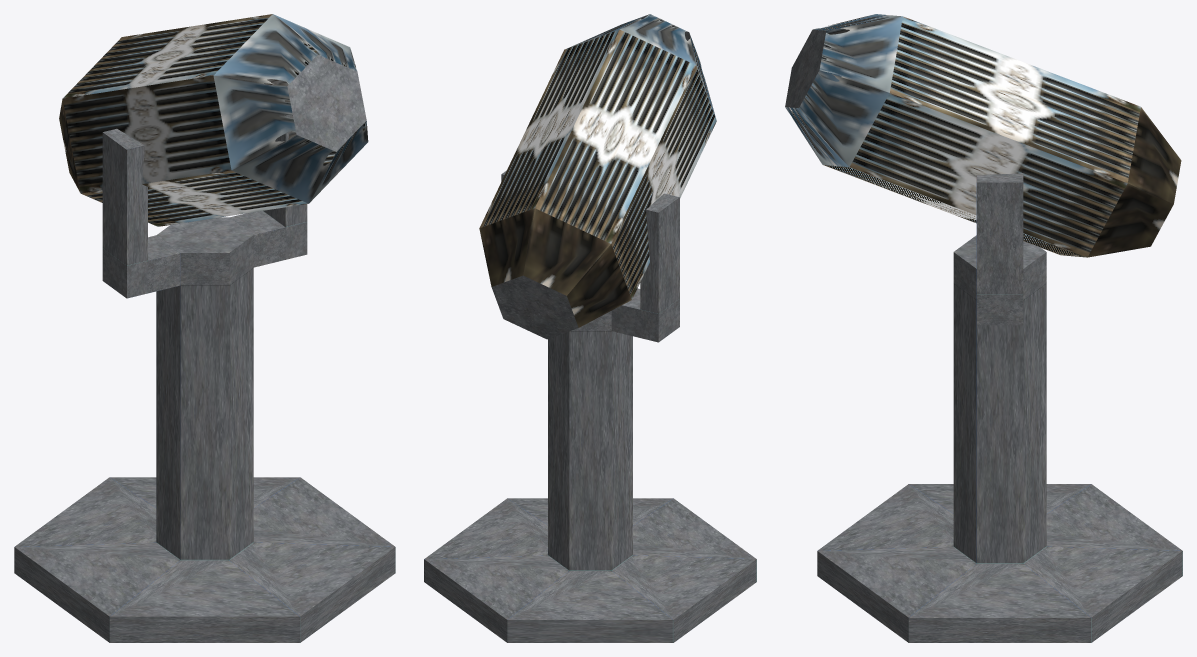
Rendered from microphone.fbx.
3 renders of one model, left to right at view 1: azimuth 30°, elevation 25°; view 2: azimuth 150°, elevation 25°; view 3: azimuth 270°, elevation 25°, orthographic. The views are drawn at different scales.
Visible parts, largest first — view 1: microphone; view 2: microphone; view 3: microphone.
Boxes of the visible parts, x1,y1,x2,y2 form: microphone: (14, 14, 395, 642); microphone: (424, 14, 756, 642); microphone: (785, 14, 1182, 642).
Size of the model in its own units: 18.03 by 35.66 by 22.65.
1 material, 1 textured.
